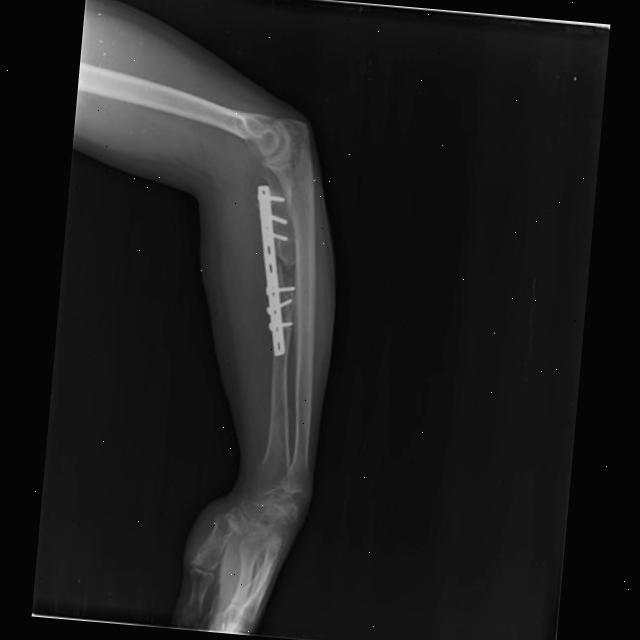Fracture: (272, 235, 296, 330)
